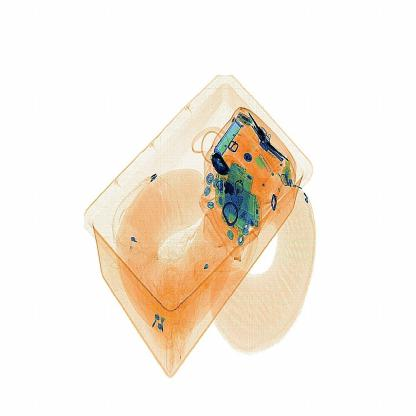scissors: (205, 145, 243, 178)
